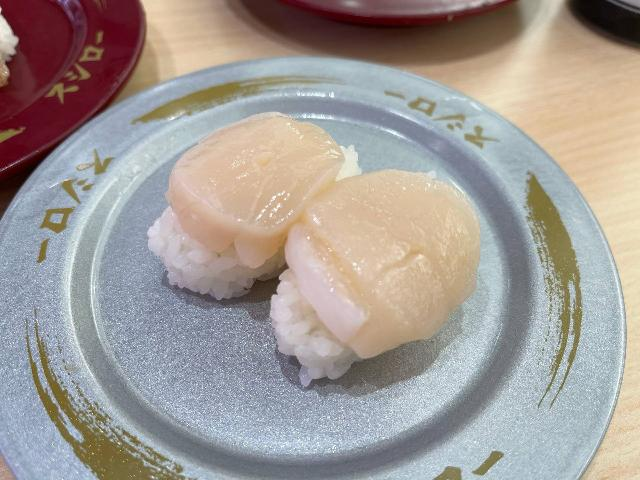janred: (0, 8, 138, 112), (284, 0, 489, 24)
janwhite: (32, 121, 613, 479)
